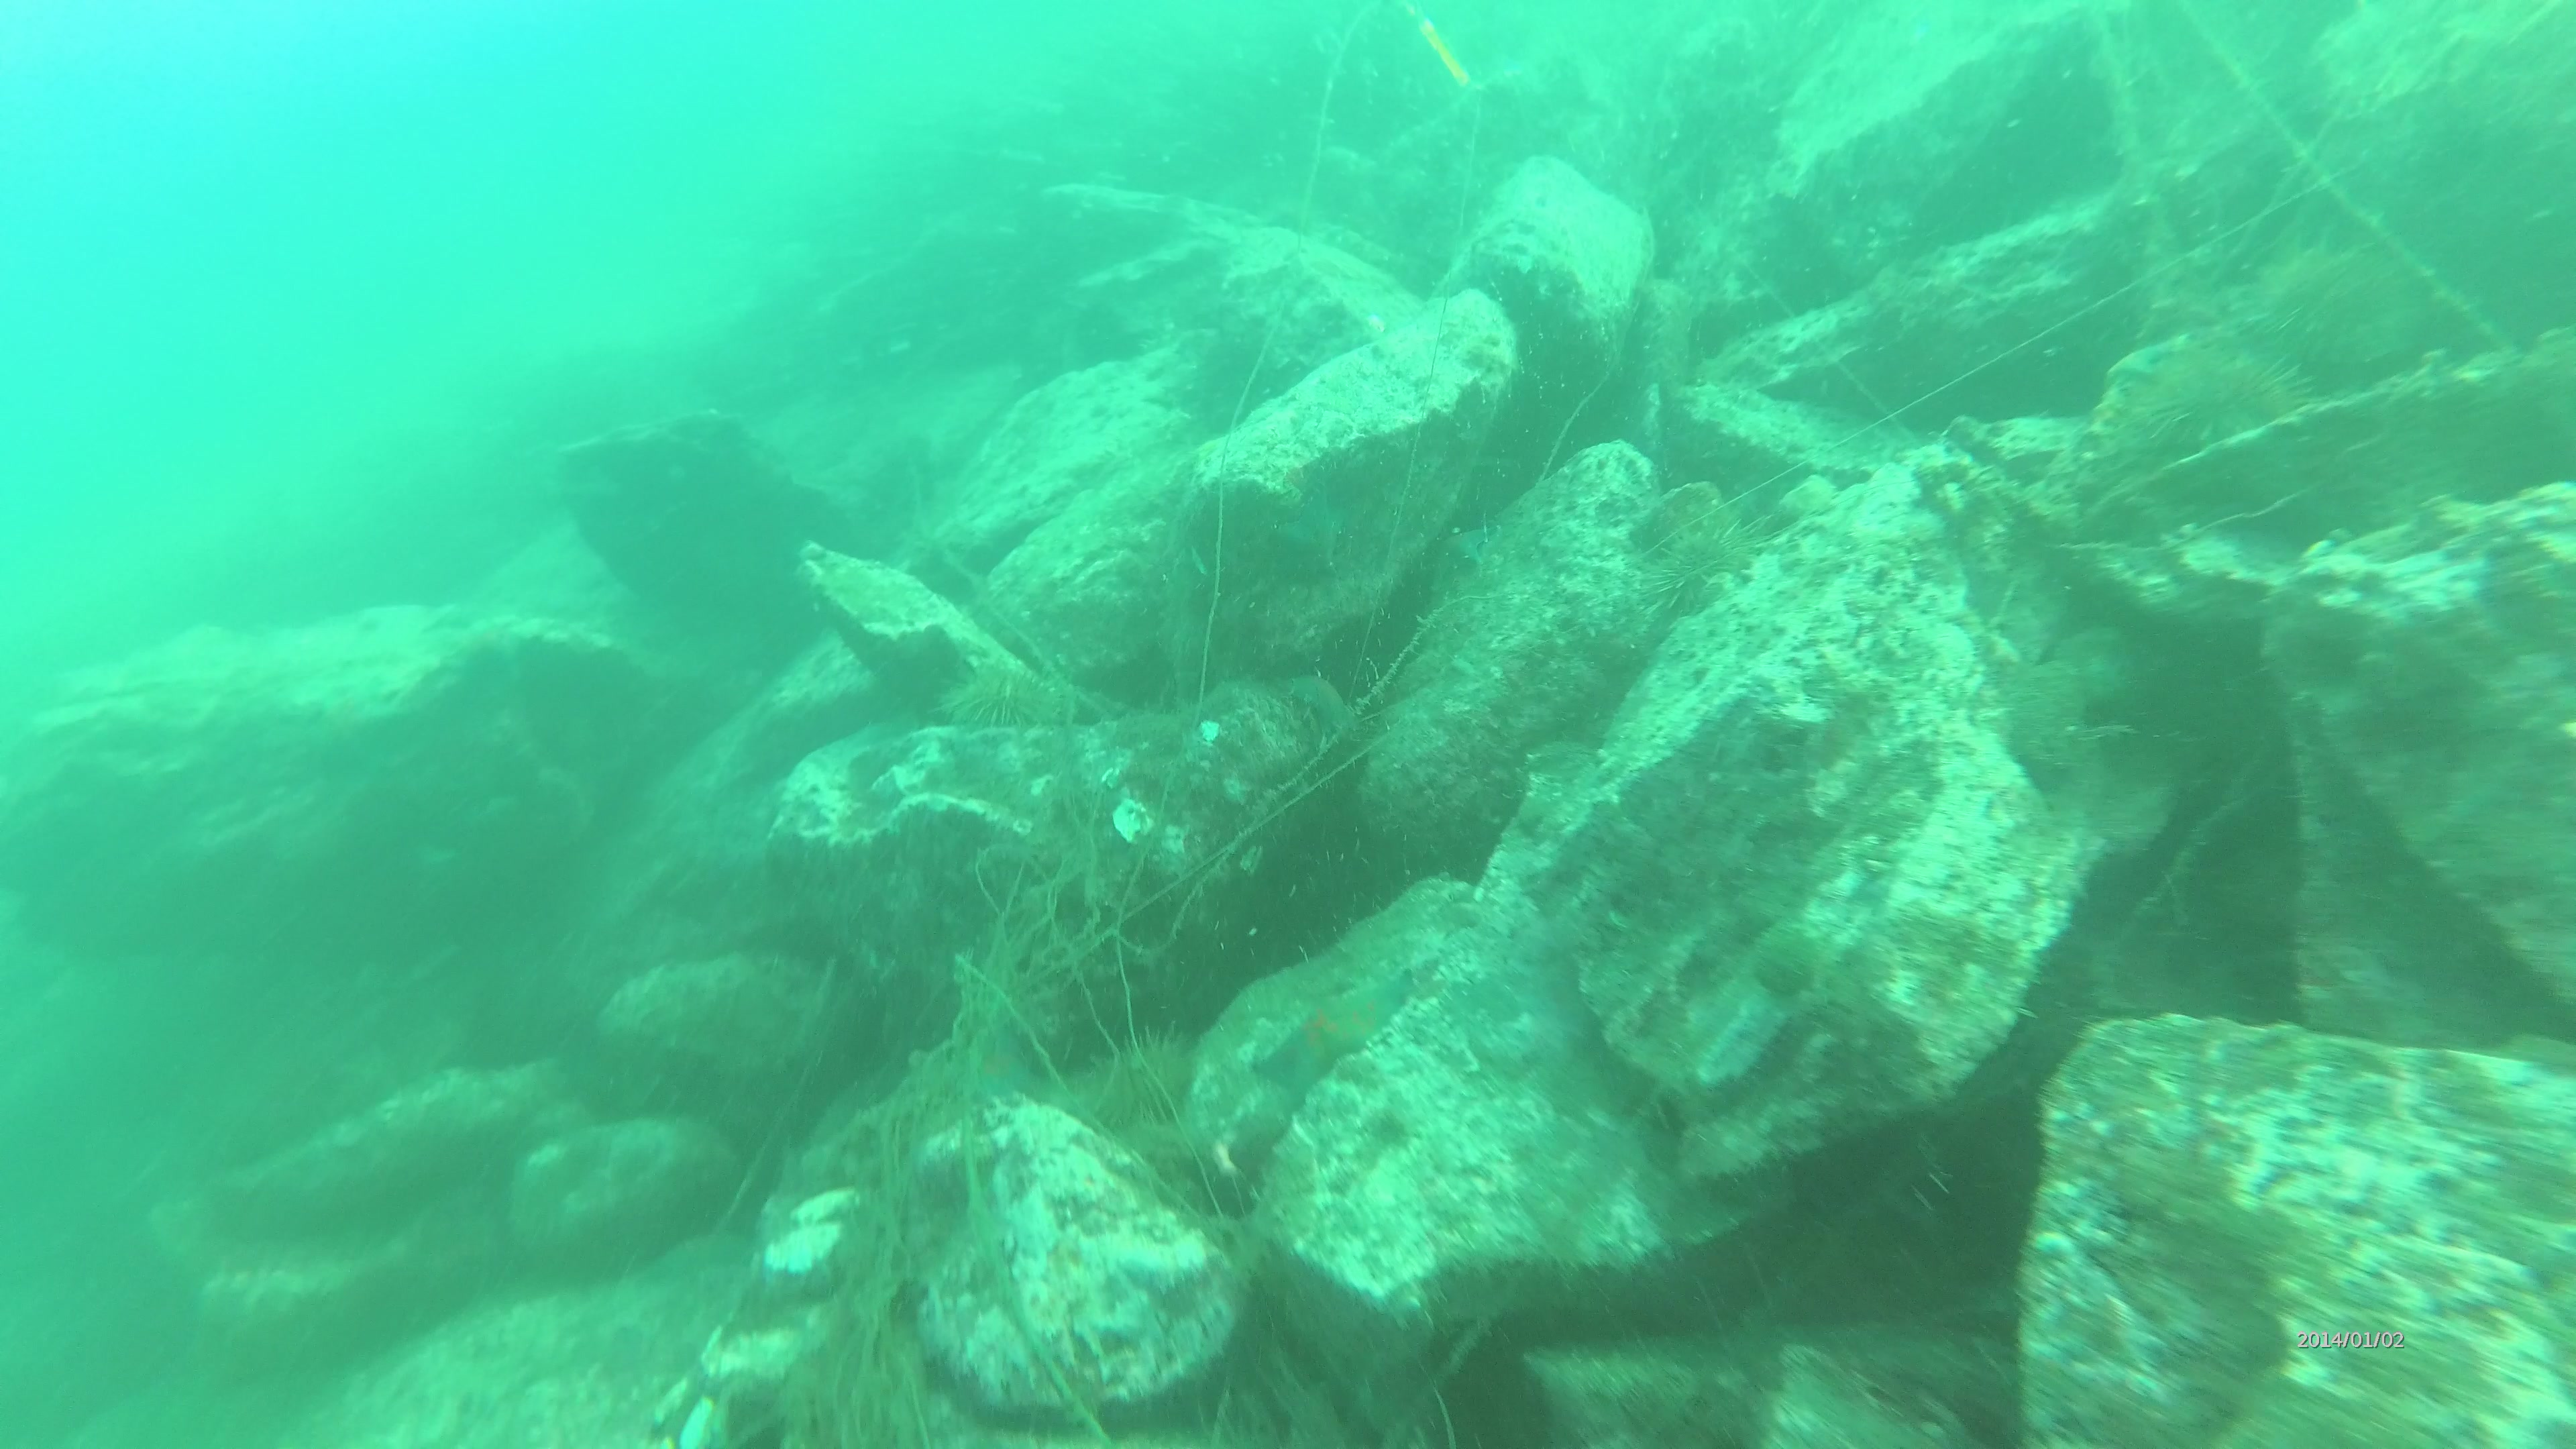echinus: (2137, 345, 2323, 455), (1644, 497, 1759, 625), (1079, 1030, 1192, 1120), (924, 674, 1063, 738)
starfish: (1233, 975, 1410, 1072)
